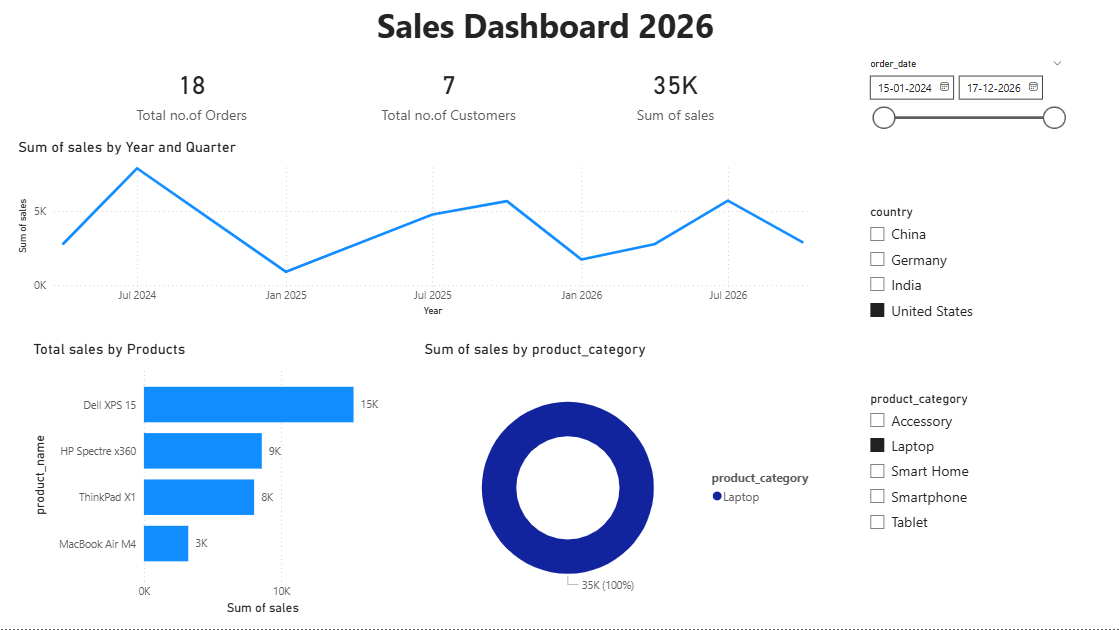

The page's visual inventory and layout, read from the dashboard file:
{"tool":"powerbi","page":{"name":"Page 1","canvas":[1280,720],"ordinal":0},"visuals":[{"type":"barChart","title":"Total sales by Products","fields":{"Category":["orders.product_name"],"Y":["Sum(orders.sales)"]},"box":[32.9,390,418.6,318.6],"z":0},{"type":"donutChart","fields":{"Y":["Sum(orders.sales)"],"Category":["orders.product_category"]},"box":[480,390,464.3,318.6],"z":1000},{"type":"card","fields":{"Values":["CountNonNull(orders.order_id)"]},"box":[104.3,62.9,230,90],"z":2000},{"type":"card","fields":{"Values":["Count(orders.customer_id)"]},"box":[408.6,62.9,208.6,90],"z":3000},{"type":"card","fields":{"Values":["Sum(orders.sales)"]},"box":[664.3,62.9,215.7,90],"z":4000},{"type":"lineChart","fields":{"Category":["orders.order_date.Variation.Date Hierarchy.Year","orders.order_date.Variation.Date Hierarchy.Quarter","orders.order_date.Variation.Date Hierarchy.Month","orders.order_date.Variation.Date Hierarchy.Day"],"Y":["Sum(orders.sales)"]},"box":[15.7,158.6,928.6,208.6],"z":5000},{"type":"slicer","fields":{"Values":["customers.country"]},"box":[981.4,230,244.3,171.4],"z":6000},{"type":"slicer","fields":{"Values":["orders.product_category"]},"box":[981.4,442.9,244.3,238.6],"z":7000},{"type":"slicer","fields":{"Values":["orders.order_date"]},"box":[981.4,62.9,244.3,107.1],"z":8000},{"type":"textbox","box":[425.7,0,444.3,62.9],"z":8001}]}

Visuals, with their boxes in screenshot pixels (x1, y1, x2, y2), scaled from the page's 1280x720 canvas onto the 1119x630 screenshot:
"Total sales by Products" barChart: [left=29, top=341, right=395, bottom=620]
donutChart - Sum(orders.sales) x orders.product_category: [left=420, top=341, right=826, bottom=620]
card - CountNonNull(orders.order_id): [left=91, top=55, right=292, bottom=134]
card - Count(orders.customer_id): [left=357, top=55, right=540, bottom=134]
card - Sum(orders.sales): [left=581, top=55, right=769, bottom=134]
lineChart - orders.order_date.Variation.Date Hierarchy.Year x orders.order_date.Variation.Date Hierarchy.Quarter: [left=14, top=139, right=826, bottom=321]
slicer - customers.country: [left=858, top=201, right=1072, bottom=351]
slicer - orders.product_category: [left=858, top=388, right=1072, bottom=596]
slicer - orders.order_date: [left=858, top=55, right=1072, bottom=149]
textbox: [left=372, top=0, right=761, bottom=55]
